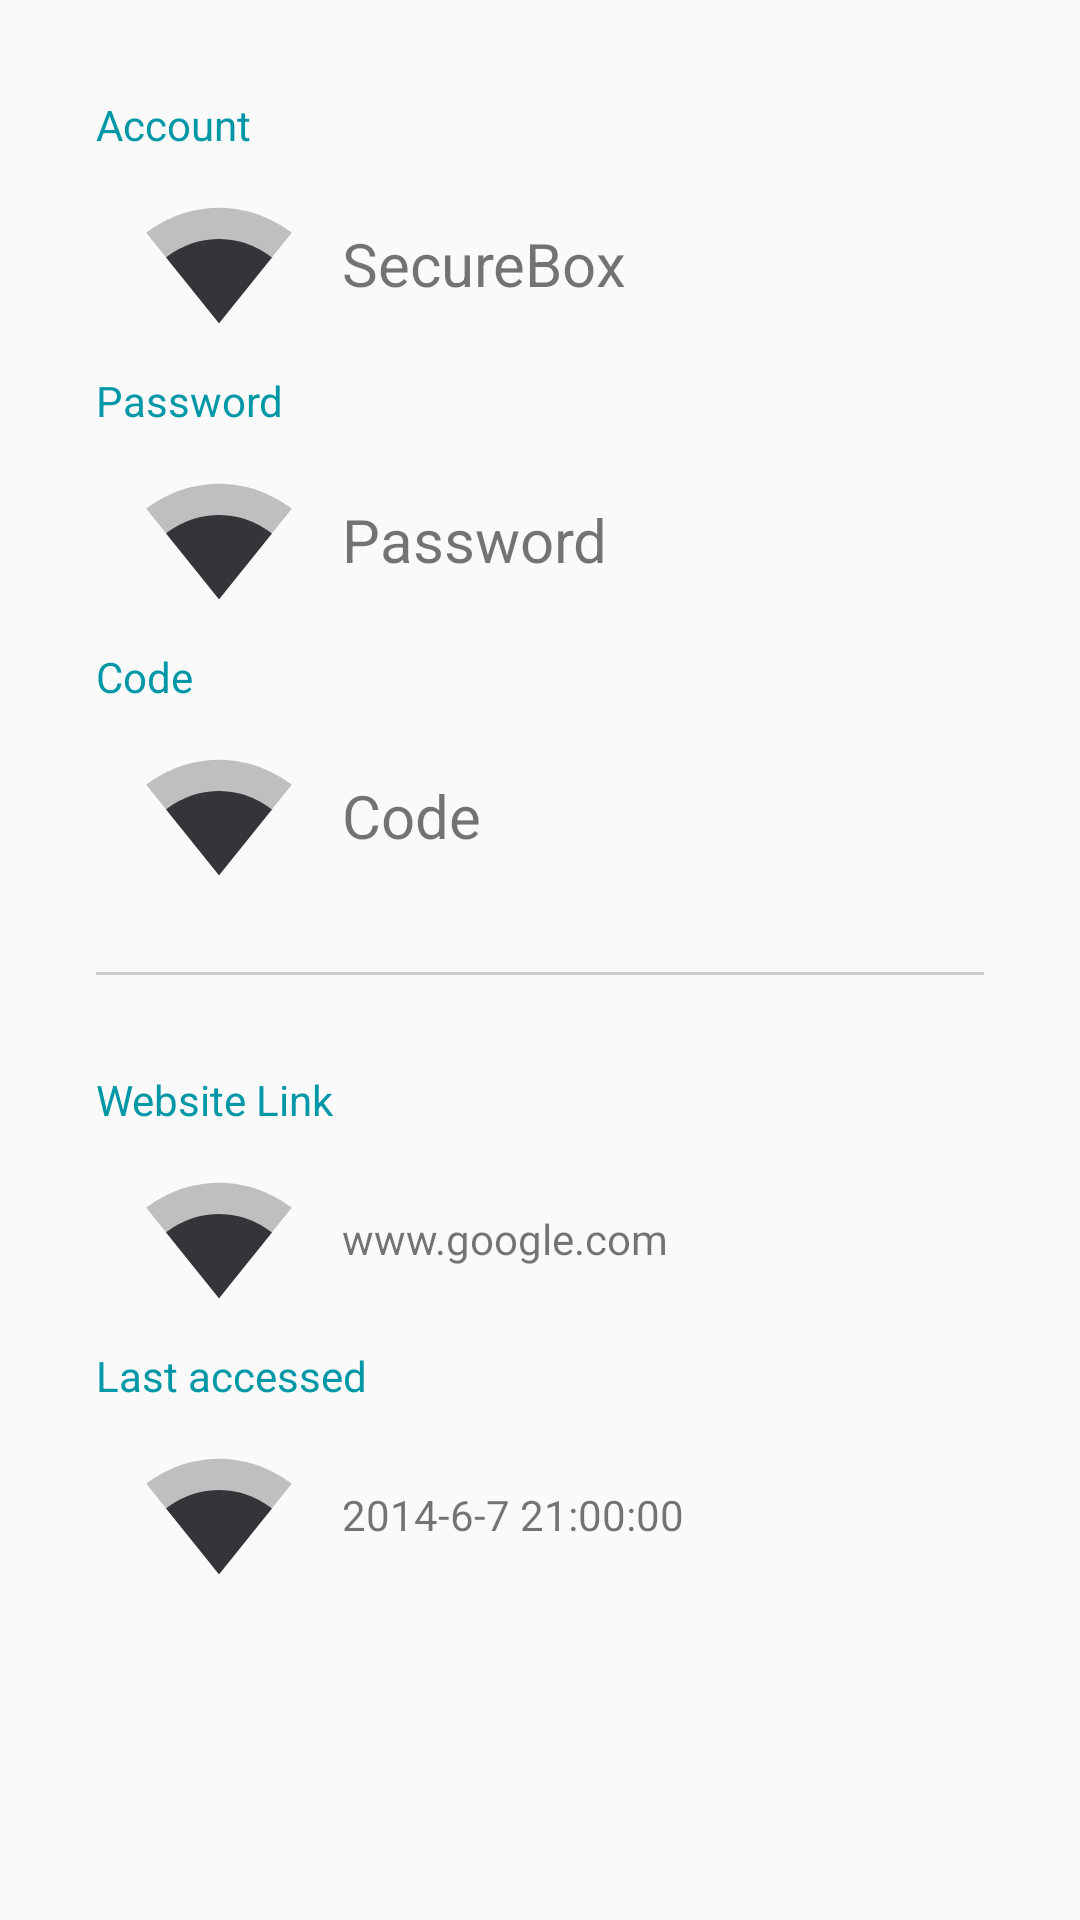

Screen size 1080px x 1920px. Icon name, then its box in pixels as detection(x1, y1, x2, y2):
wifi: detection(146, 208, 291, 323), detection(146, 484, 291, 599), detection(146, 760, 291, 875), detection(146, 1183, 291, 1298), detection(146, 1459, 291, 1574)
